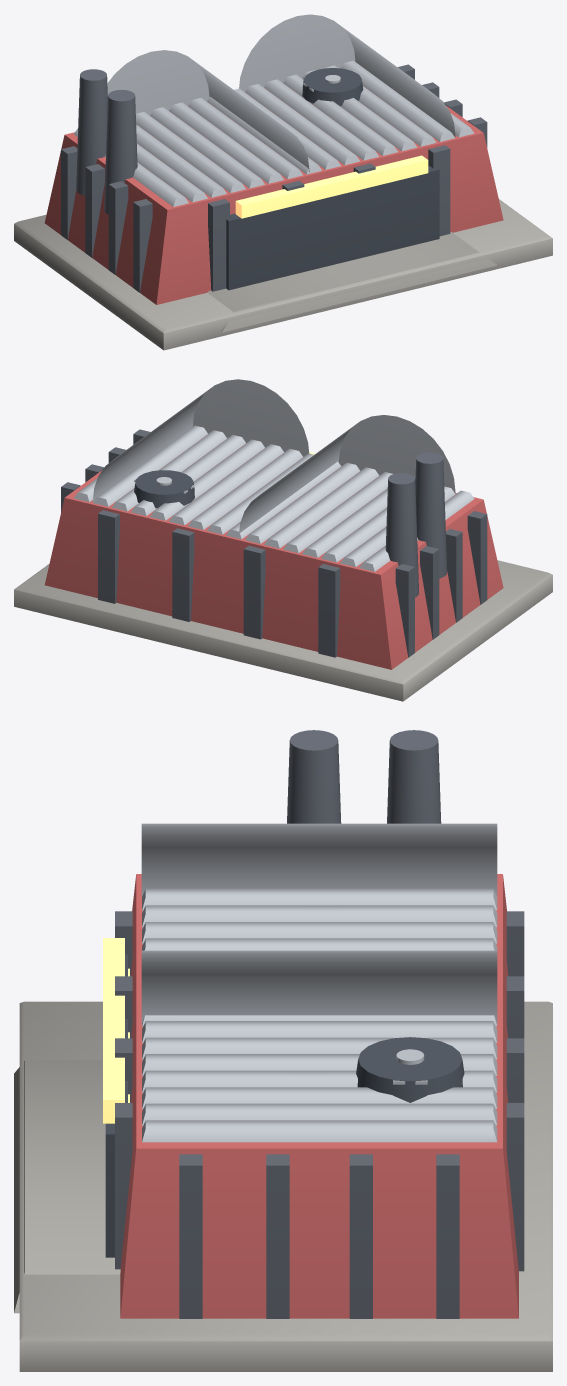
The model's file is sweap.glb.
3 views of the same model, one above another, from view 1: azimuth 30°, elevation 25°; view 2: azimuth 150°, elevation 25°; view 3: azimuth 270°, elevation 25° (orthographic). The views are drawn at different scales.
Visible parts, largest first — view 1: Hull; view 2: Hull; view 3: Hull.
Part boxes in pixels (x1,y1,x2,y2): Hull: [14, 14, 552, 350]; Hull: [14, 379, 552, 701]; Hull: [14, 730, 552, 1371].
Size of the model in its own units: 5.18 by 2.35 by 3.49.
